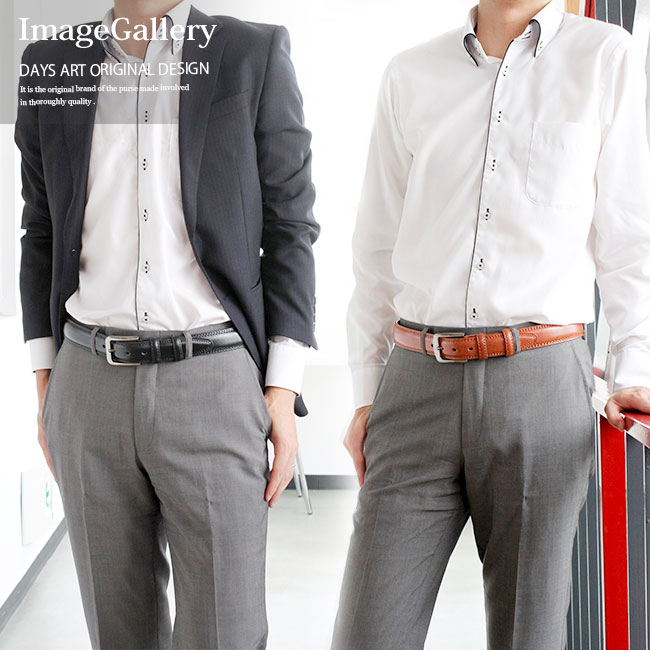F_M_suit jacket: (19, 4, 320, 363)
F_belt: (56, 309, 250, 368), (384, 319, 586, 357)
F_dress pants: (347, 327, 599, 650), (49, 309, 278, 650)
F_shirt: (338, 1, 645, 414)
